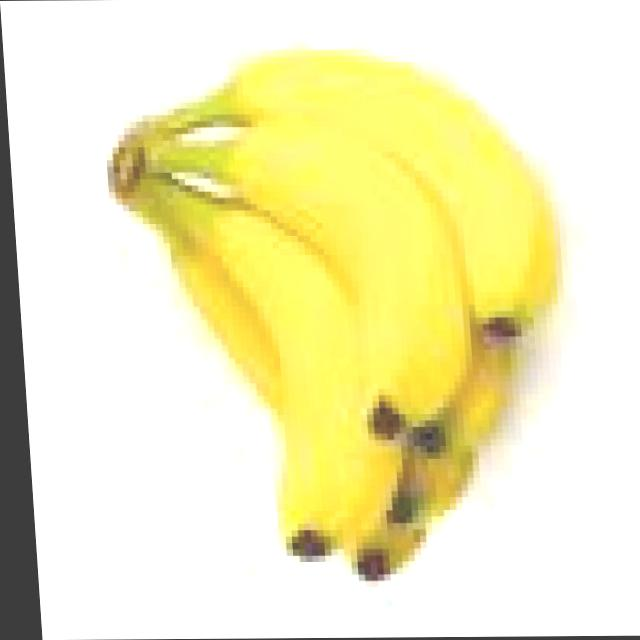banana: (92, 41, 596, 588), (227, 40, 567, 338), (227, 125, 477, 440), (200, 202, 409, 562), (407, 348, 524, 458), (375, 445, 490, 528), (336, 515, 436, 587)
